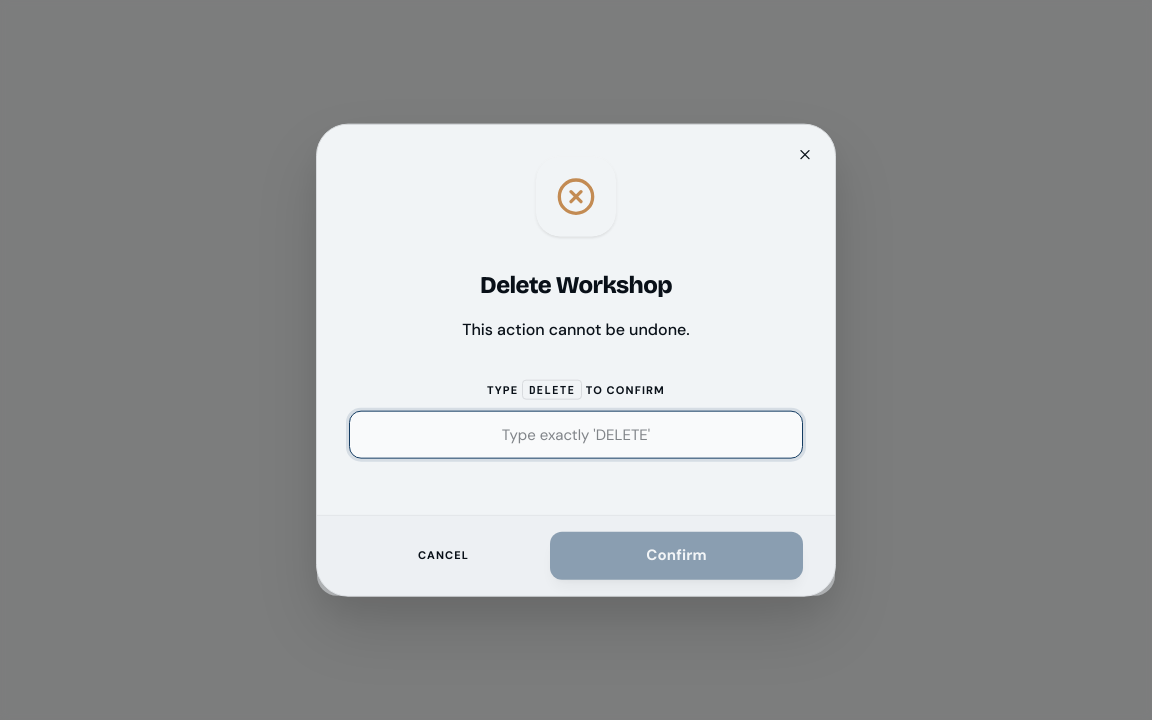
it: ConfirmDialog › enables confirm button when input exactly matches requireConfirmText
Type "DELETE" into the field with placeholder "Type exactly 'DELETE'" at (576, 434), box [349, 410, 803, 458]
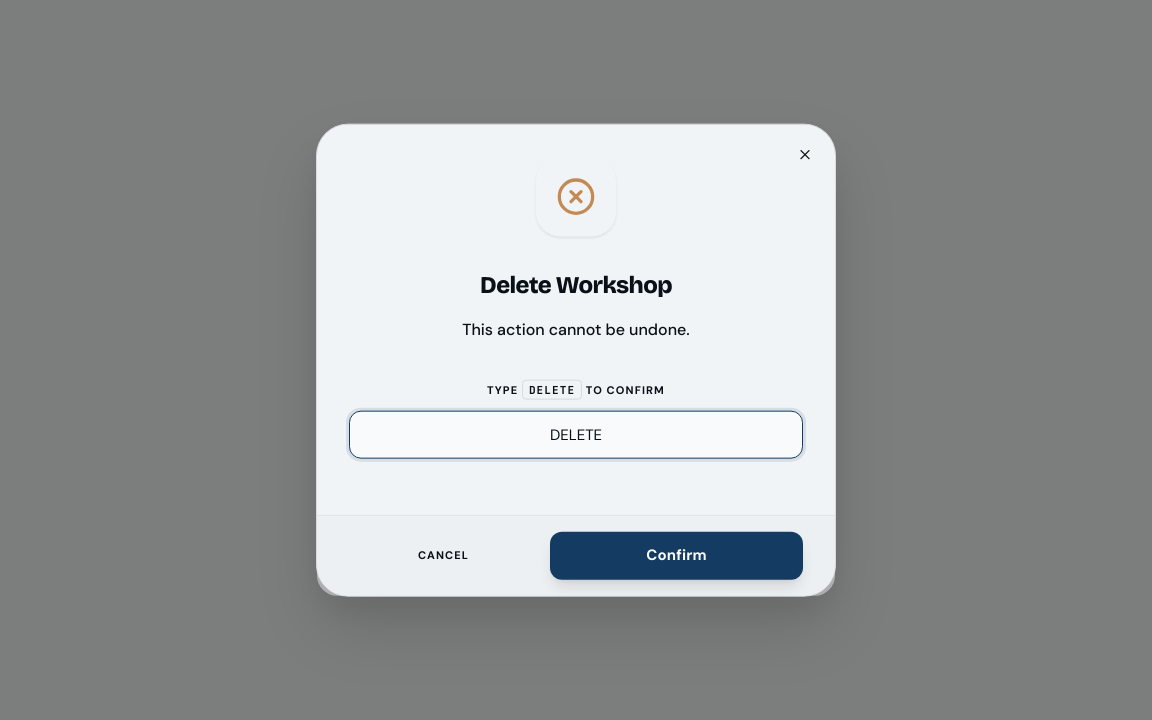
Now the button "Confirm" is enabled, box [550, 531, 803, 579]
